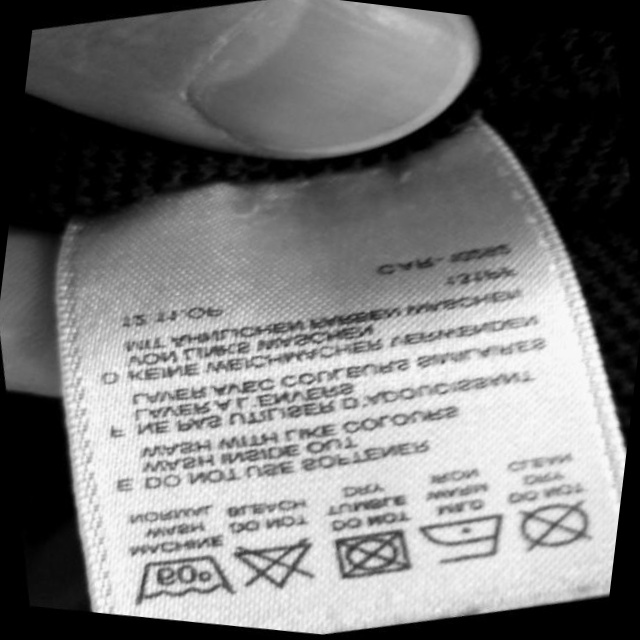60C: (132, 549, 242, 617)
DN_bleach: (228, 526, 322, 601)
DN_dry_clean: (512, 494, 597, 562)
DN_tumble_dry: (332, 521, 416, 591)
iron_low: (415, 504, 509, 574)
